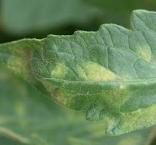Tomato mold leaf: (0, 7, 156, 145)
